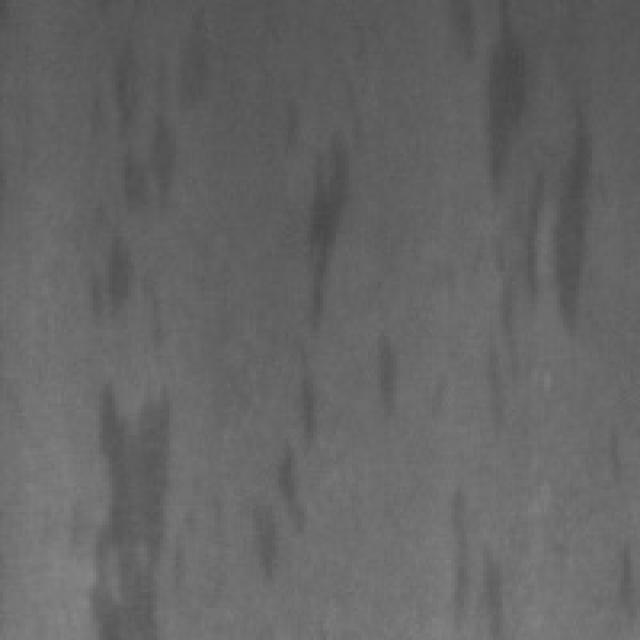inclusion: (54, 9, 196, 630), (237, 118, 352, 580), (474, 0, 592, 394), (438, 477, 506, 630), (362, 317, 403, 413)
